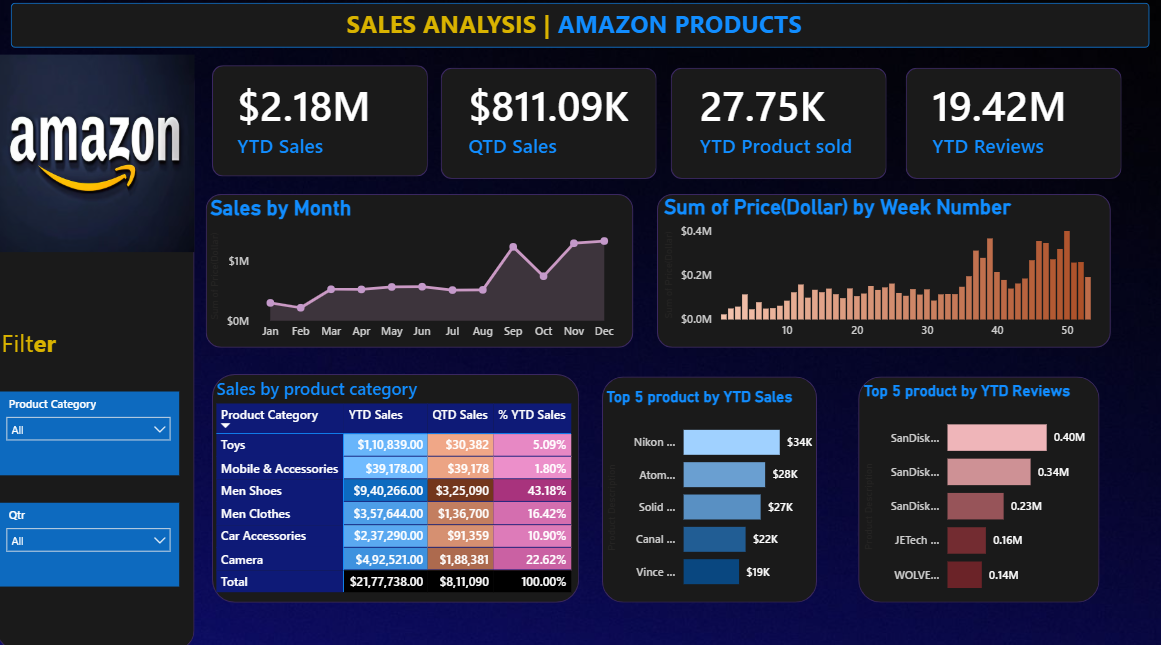

What the dashboard file says about the page in this screenshot:
{"tool":"powerbi","page":{"name":"Page 1","canvas":[1280,720],"ordinal":0},"visuals":[{"type":"shape","box":[997.6,81,237,122],"z":0},{"type":"shape","box":[739.6,81,237,122],"z":1000},{"type":"shape","box":[487.1,81,237,122],"z":2000},{"type":"shape","box":[236,78.2,237,122],"z":3000},{"type":"shape","box":[15.1,9.6,1250.1,49.4],"z":4000},{"type":"cardVisual","fields":{"Data":["Amazon_Data.YTD Sales"]},"box":[234.6,74.1,237,122],"z":4000,"group":"g1"},{"type":"shape","box":[0,75.5,216.8,644.9],"z":5000},{"type":"shape","box":[229.2,219.6,469.3,168.8],"z":6000},{"type":"cardVisual","fields":{"Data":["Amazon_Data.QTD Sales"]},"box":[488.4,74.1,237.7,122],"z":7000,"group":"g1"},{"type":"areaChart","title":"Sales by Month","fields":{"Category":["Date Table.Month Name"],"Y":["Sum(Amazon_Data.Price(Dollar))"]},"box":[229.2,221,456,168],"z":7000,"group":"g2"},{"type":"cardVisual","fields":{"Data":["Amazon_Data.YTD Product sold"]},"box":[743,74.1,237.7,122],"z":8000,"group":"g1"},{"type":"shape","box":[724.5,219.6,498,168.8],"z":8000},{"type":"cardVisual","fields":{"Data":["Amazon_Data.YTD Reviews"]},"box":[997.6,74.1,237.7,122],"z":9000,"group":"g1"},{"type":"columnChart","fields":{"Category":["Date Table.Week Number"],"Y":["Sum(Amazon_Data.Price(Dollar))"]},"box":[727.3,219.6,498,168],"z":9000,"group":"g2"},{"type":"shape","box":[664.2,419.9,236,248.4],"z":10000},{"type":"shape","box":[236,417.2,403,251],"z":11000},{"type":"textbox","box":[378.7,9.6,521.4,52.1],"z":12000},{"type":"pivotTable","title":"Sales by product category","fields":{"Rows":["Amazon_Data.Product Category"],"Values":["Amazon_Data.YTD Sales","Amazon_Data.QTD Sales","Divide(Amazon_Data.YTD Sales, ScopedEval(Amazon_Data.YTD Sales, []))"]},"box":[236.1,419.9,403.4,251.1],"z":13000,"group":"g3"},{"type":"shape","box":[945.5,419.9,264.8,248.4],"z":14000},{"type":"clusteredBarChart","title":"Top 5 product by YTD Sales","fields":{"Category":["Amazon_Data.Product Description"],"Y":["Amazon_Data.YTD Sales"]},"box":[664.2,432.3,236,236],"z":15000,"group":"g3"},{"type":"clusteredBarChart","title":"Top 5 product by YTD Reviews","fields":{"Category":["Amazon_Data.Product Description"],"Y":["Amazon_Data.YTD Reviews"]},"box":[946.9,425.4,264,248],"z":16000,"group":"g3"},{"type":"slicer","fields":{"Values":["Amazon_Data.Product Category"]},"box":[0,436.4,200.3,91.9],"z":17000},{"type":"slicer","fields":{"Values":["Date Table.Qtr"]},"box":[0,558.5,200.3,91.9],"z":18000},{"type":"image","box":[0,61.7,216.8,226.4],"z":19000},{"type":"textbox","box":[0,359.5,100.2,57.6],"z":20000},{"type":"group","id":"g1","title":"Group 1","box":[234.6,74.1,1000.7,122],"z":21000},{"type":"group","id":"g2","title":"Group 2","box":[229.2,219.6,996.1,169.4],"z":21001,"group":"g3"},{"type":"group","id":"g3","title":"Group 3","box":[229.2,219.6,996.1,453.8],"z":21002}]}

Visuals, with their boxes in screenshot pixels (x1, y1, x2, y2), scaled from the page's 1280x720 canvas onto the 1161x645 screenshot:
shape: bbox(905, 73, 1120, 182)
shape: bbox(671, 73, 886, 182)
shape: bbox(442, 73, 657, 182)
shape: bbox(214, 70, 429, 179)
shape: bbox(14, 9, 1148, 53)
cardVisual - Amazon_Data.YTD Sales: bbox(213, 66, 428, 176)
shape: bbox(0, 68, 197, 644)
shape: bbox(208, 197, 634, 348)
cardVisual - Amazon_Data.QTD Sales: bbox(443, 66, 659, 176)
"Sales by Month" areaChart: bbox(208, 198, 621, 348)
cardVisual - Amazon_Data.YTD Product sold: bbox(674, 66, 890, 176)
shape: bbox(657, 197, 1109, 348)
cardVisual - Amazon_Data.YTD Reviews: bbox(905, 66, 1120, 176)
columnChart - Date Table.Week Number x Sum(Amazon_Data.Price(Dollar)): bbox(660, 197, 1111, 347)
shape: bbox(602, 376, 817, 599)
shape: bbox(214, 374, 580, 599)
textbox: bbox(343, 9, 816, 55)
"Sales by product category" pivotTable: bbox(214, 376, 580, 601)
shape: bbox(858, 376, 1098, 599)
"Top 5 product by YTD Sales" clusteredBarChart: bbox(602, 387, 817, 599)
"Top 5 product by YTD Reviews" clusteredBarChart: bbox(859, 381, 1098, 603)
slicer - Amazon_Data.Product Category: bbox(0, 391, 182, 473)
slicer - Date Table.Qtr: bbox(0, 500, 182, 583)
image: bbox(0, 55, 197, 258)
textbox: bbox(0, 322, 91, 374)
"Group 1" group: bbox(213, 66, 1120, 176)
"Group 2" group: bbox(208, 197, 1111, 348)
"Group 3" group: bbox(208, 197, 1111, 603)
